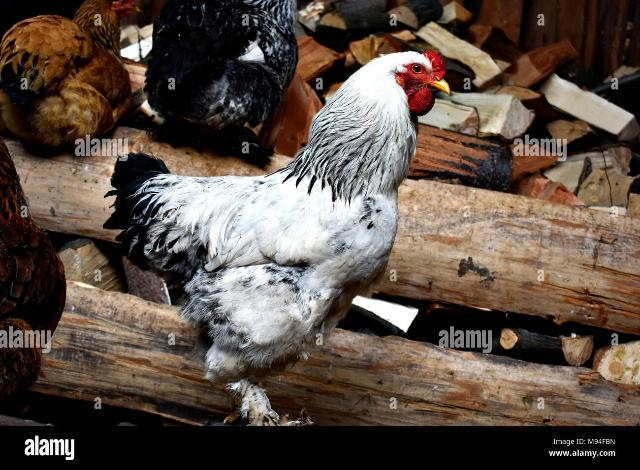Chicken: (104, 51, 450, 427), (148, 0, 297, 167), (0, 0, 144, 160)
